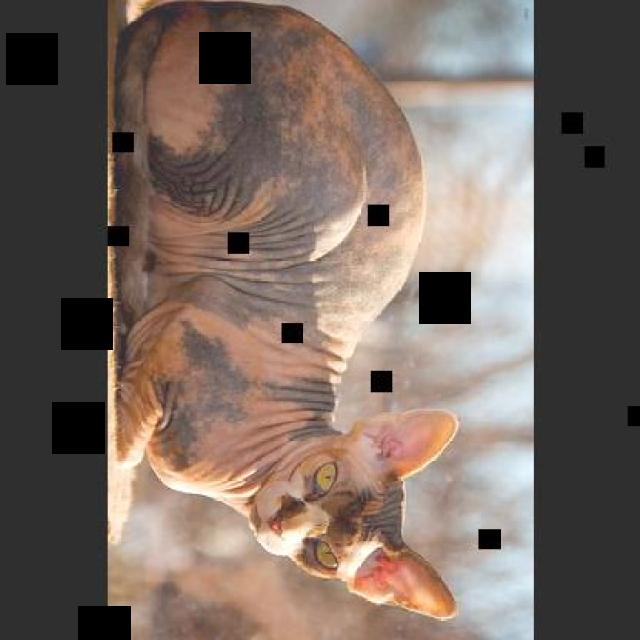unauthorized: (108, 0, 462, 625)
